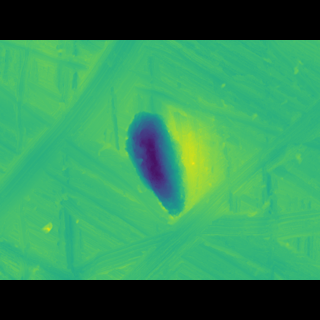Loch: (0, 71, 157, 208), (72, 191, 319, 249), (118, 121, 192, 209)
